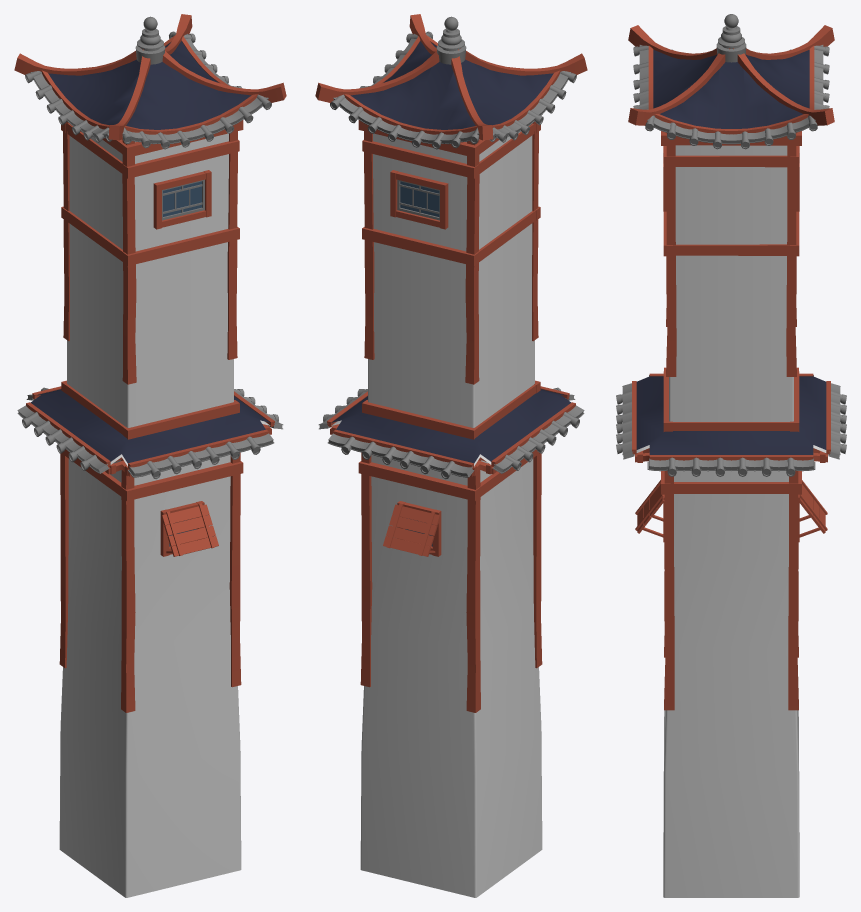
The model's file is SM_watchtower.fbx.
3 views of the same model, side by side, from view 1: azimuth 30°, elevation 25°; view 2: azimuth 150°, elevation 25°; view 3: azimuth 270°, elevation 25° (orthographic).
Parts seen in each view (by area): view 1: Object32411; view 2: Object32411; view 3: Object32411.
Boxes of the visible parts, x1,y1,x2,y2 form: Object32411: [14, 14, 286, 897]; Object32411: [315, 14, 587, 897]; Object32411: [616, 14, 846, 897].
Bounding box in the file's own units: 222 × 912 × 224.
